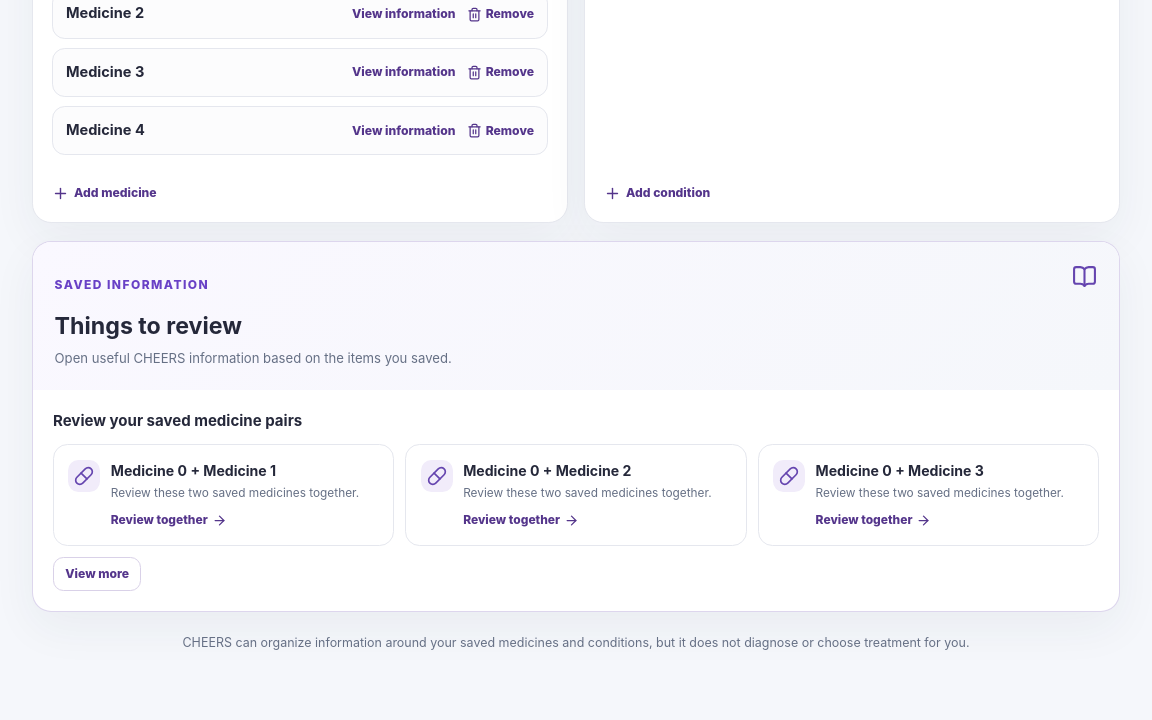
Test: My Health dashboard › bounds deterministic pair suggestions without requesting network data
(page scrolled)
Expected: the number of links "Review together" is 3, x1=111 y1=511 x2=227 y2=529; x1=463 y1=511 x2=579 y2=529; x1=816 y1=511 x2=932 y2=529
Click the button "View more" at (97,574), box x1=53 y1=557 x2=141 y2=591
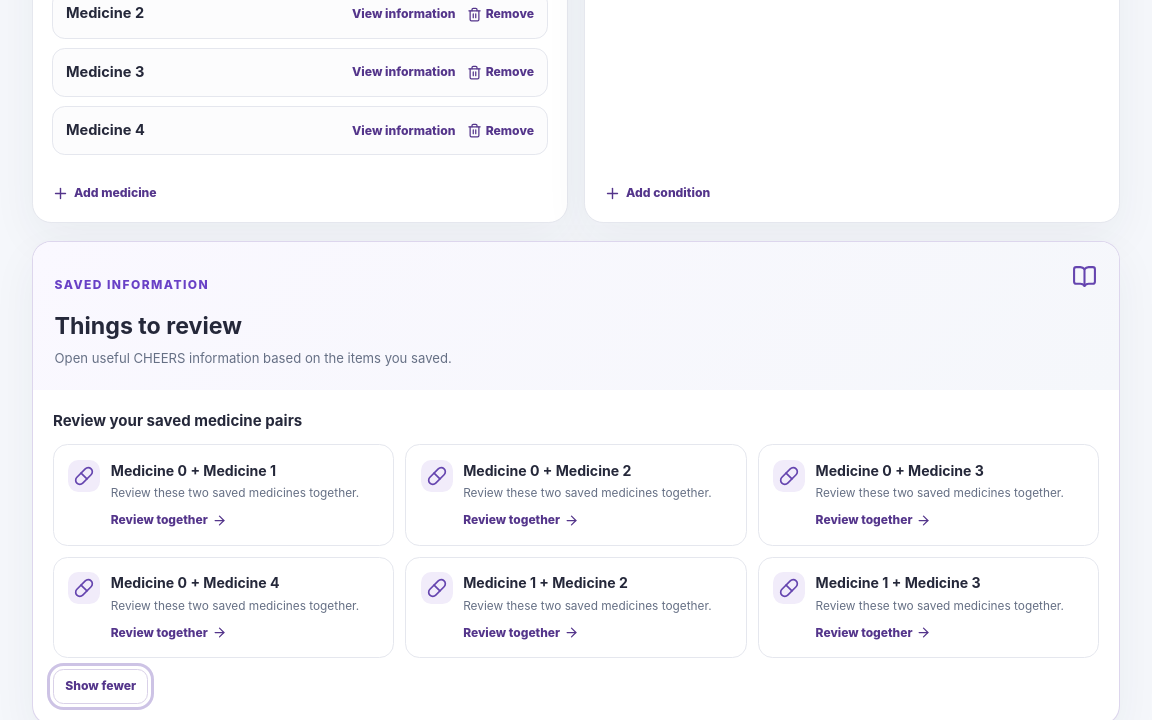
Now the number of links "Review together" is 6, box x1=111 y1=511 x2=227 y2=529; x1=463 y1=511 x2=579 y2=529; x1=816 y1=511 x2=932 y2=529; x1=111 y1=624 x2=227 y2=642; x1=463 y1=624 x2=579 y2=642; x1=816 y1=624 x2=932 y2=642
Now the button "Show fewer" is expanded, box x1=53 y1=669 x2=148 y2=704
